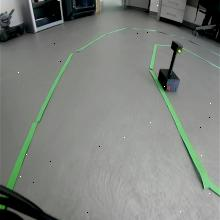green: (170, 39, 184, 55)
